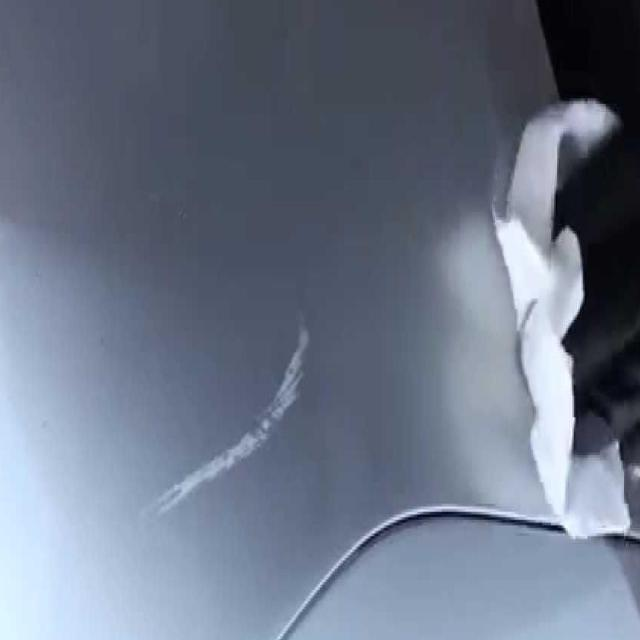scratch: (136, 304, 319, 523)
